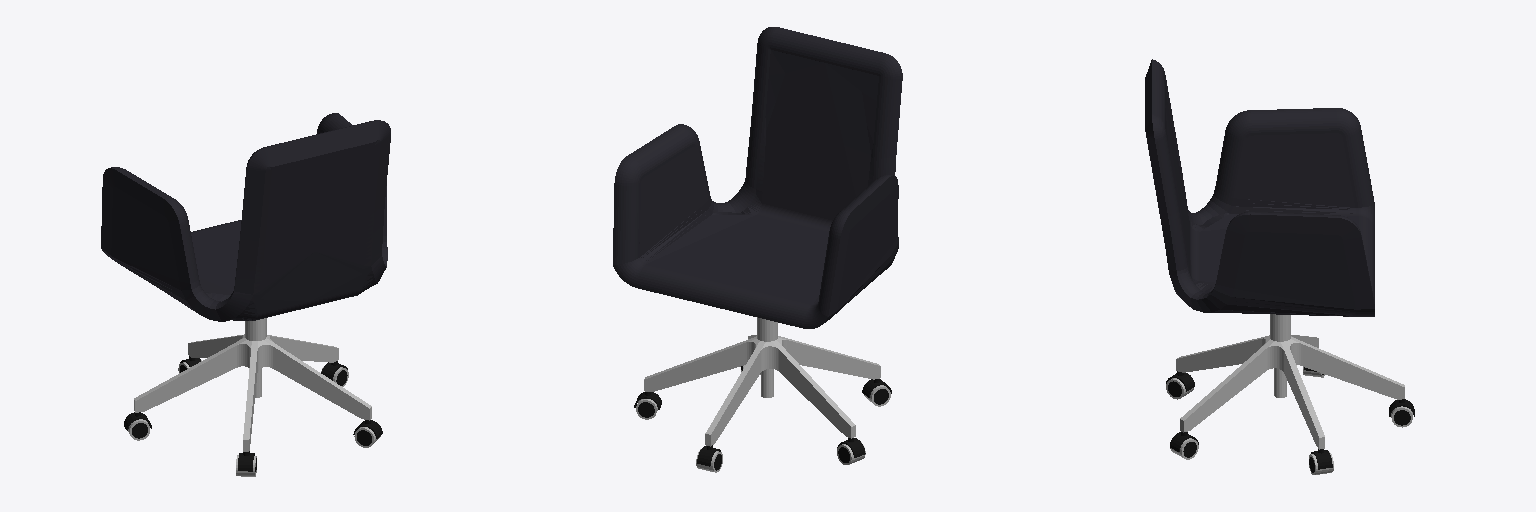
The picture shows the model from 3 angles: view 1: azimuth 30°, elevation 25°; view 2: azimuth 150°, elevation 25°; view 3: azimuth 270°, elevation 25°; orthographic projection.
Visible parts, largest first — view 1: Mesh22 Group19 Patrik_kontorsstol1 Model, Mesh17 Patrik_ben4 Group3 Group1 Patrik_kontorsstol1 Model, Mesh13 Patrik_ben3 Group3 Group1 Patrik_kontorsstol1 Model, Mesh9 Patrik_ben2 Group3 Group1 Patrik_kontorsstol1 Model, Mesh21 Patrik_ben5 Group3 Group1 Patrik_kontorsstol1 Model, Mesh5 Patrik_ben1 Group3 Group1 Patrik_kontorsstol1 Model, Mesh1 Group2 Group1 Patrik_kontorsstol1 Model; view 2: Mesh22 Group19 Patrik_kontorsstol1 Model, Mesh13 Patrik_ben3 Group3 Group1 Patrik_kontorsstol1 Model, Mesh21 Patrik_ben5 Group3 Group1 Patrik_kontorsstol1 Model, Mesh9 Patrik_ben2 Group3 Group1 Patrik_kontorsstol1 Model, Mesh5 Patrik_ben1 Group3 Group1 Patrik_kontorsstol1 Model, Mesh1 Group2 Group1 Patrik_kontorsstol1 Model; view 3: Mesh22 Group19 Patrik_kontorsstol1 Model, Mesh5 Patrik_ben1 Group3 Group1 Patrik_kontorsstol1 Model, Mesh17 Patrik_ben4 Group3 Group1 Patrik_kontorsstol1 Model, Mesh21 Patrik_ben5 Group3 Group1 Patrik_kontorsstol1 Model, Mesh9 Patrik_ben2 Group3 Group1 Patrik_kontorsstol1 Model, Mesh1 Group2 Group1 Patrik_kontorsstol1 Model.
Part boxes in pixels (left/top/right/bottom): Mesh22 Group19 Patrik_kontorsstol1 Model: left=101, top=113, right=390, bottom=321; Mesh17 Patrik_ben4 Group3 Group1 Patrik_kontorsstol1 Model: left=257, top=338, right=371, bottom=420; Mesh13 Patrik_ben3 Group3 Group1 Patrik_kontorsstol1 Model: left=134, top=335, right=246, bottom=412; Mesh9 Patrik_ben2 Group3 Group1 Patrik_kontorsstol1 Model: left=235, top=340, right=257, bottom=451; Mesh21 Patrik_ben5 Group3 Group1 Patrik_kontorsstol1 Model: left=266, top=335, right=338, bottom=362; Mesh5 Patrik_ben1 Group3 Group1 Patrik_kontorsstol1 Model: left=188, top=334, right=244, bottom=357; Mesh1 Group2 Group1 Patrik_kontorsstol1 Model: left=245, top=318, right=266, bottom=397; Mesh22 Group19 Patrik_kontorsstol1 Model: left=613, top=27, right=902, bottom=328; Mesh13 Patrik_ben3 Group3 Group1 Patrik_kontorsstol1 Model: left=760, top=340, right=855, bottom=438; Mesh21 Patrik_ben5 Group3 Group1 Patrik_kontorsstol1 Model: left=644, top=336, right=756, bottom=391; Mesh9 Patrik_ben2 Group3 Group1 Patrik_kontorsstol1 Model: left=777, top=336, right=880, bottom=379; Mesh5 Patrik_ben1 Group3 Group1 Patrik_kontorsstol1 Model: left=705, top=339, right=765, bottom=446; Mesh1 Group2 Group1 Patrik_kontorsstol1 Model: left=757, top=317, right=777, bottom=397; Mesh22 Group19 Patrik_kontorsstol1 Model: left=1145, top=59, right=1374, bottom=316; Mesh5 Patrik_ben1 Group3 Group1 Patrik_kontorsstol1 Model: left=1287, top=337, right=1404, bottom=399; Mesh17 Patrik_ben4 Group3 Group1 Patrik_kontorsstol1 Model: left=1180, top=337, right=1274, bottom=432; Mesh21 Patrik_ben5 Group3 Group1 Patrik_kontorsstol1 Model: left=1265, top=341, right=1324, bottom=449; Mesh9 Patrik_ben2 Group3 Group1 Patrik_kontorsstol1 Model: left=1176, top=335, right=1269, bottom=372; Mesh1 Group2 Group1 Patrik_kontorsstol1 Model: left=1270, top=314, right=1290, bottom=397.
Size of the model in its own units: 0.5546 by 0.7891 by 0.5723.